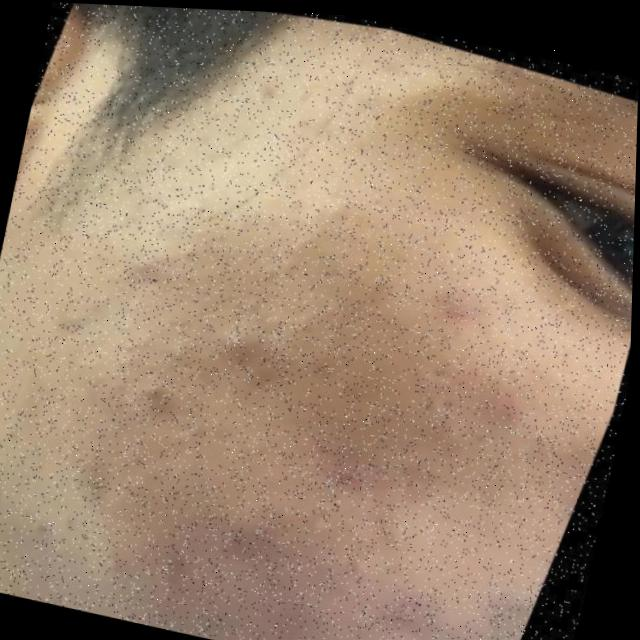Acne: (122, 212, 520, 600)
